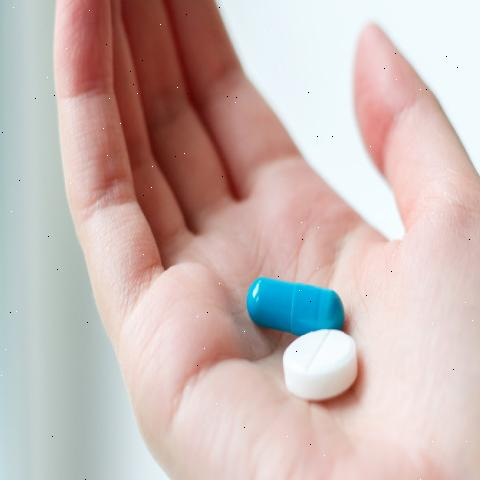Pill: (262, 326, 376, 410)
